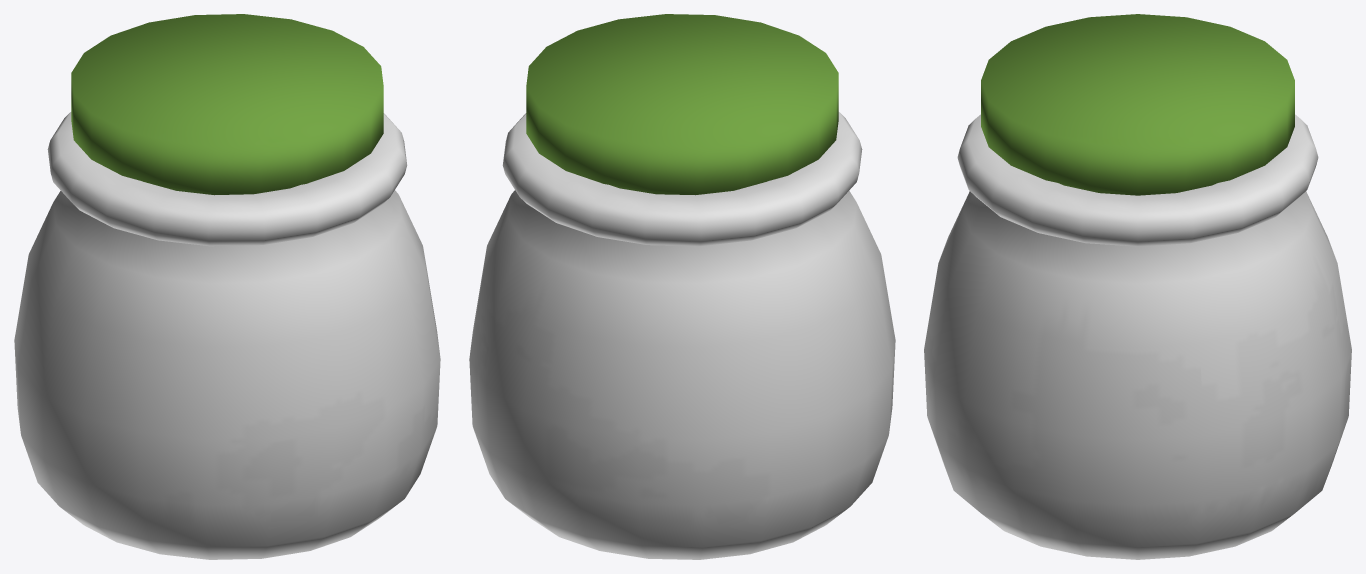
The model's file is pi_glasspot05_chilisauce.gltf.
3 views of the same model, side by side, from view 1: azimuth 30°, elevation 25°; view 2: azimuth 150°, elevation 25°; view 3: azimuth 270°, elevation 25° (orthographic).
Visible parts, largest first — view 1: glasspot05_outside01_mesh_shape__duprename_ebfd83ex:pi_glass, glasspot05_lid01_mesh_shape:pi_glasspot05_body; view 2: glasspot05_outside01_mesh_shape__duprename_ebfd83ex:pi_glass, glasspot05_lid01_mesh_shape:pi_glasspot05_body; view 3: glasspot05_outside01_mesh_shape__duprename_ebfd83ex:pi_glass, glasspot05_lid01_mesh_shape:pi_glasspot05_body.
Boxes of the visible parts, x1,y1,x2,y2 form: glasspot05_outside01_mesh_shape__duprename_ebfd83ex:pi_glass: [14, 112, 440, 559]; glasspot05_lid01_mesh_shape:pi_glasspot05_body: [71, 14, 383, 195]; glasspot05_outside01_mesh_shape__duprename_ebfd83ex:pi_glass: [469, 112, 895, 559]; glasspot05_lid01_mesh_shape:pi_glasspot05_body: [526, 14, 838, 195]; glasspot05_outside01_mesh_shape__duprename_ebfd83ex:pi_glass: [924, 114, 1351, 559]; glasspot05_lid01_mesh_shape:pi_glasspot05_body: [981, 14, 1294, 195].
Size of the model in its own units: 0.0943 by 0.0997 by 0.0943.
3 materials, 3 textured.
